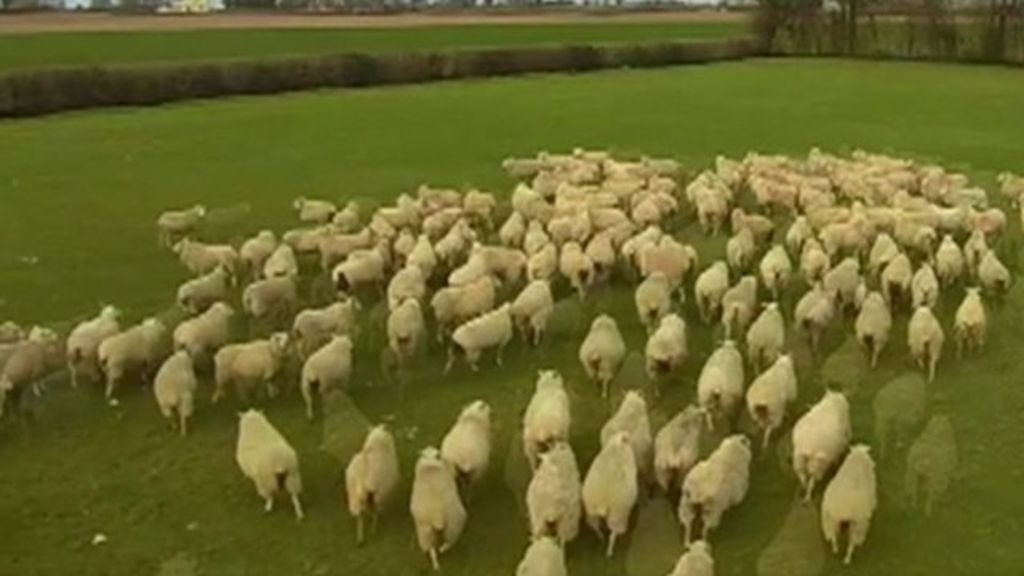sheep: (215, 413, 314, 534), (577, 428, 661, 561), (393, 448, 470, 565), (524, 440, 601, 553), (810, 437, 881, 551), (345, 433, 414, 545), (201, 337, 305, 410), (165, 307, 265, 375), (685, 434, 747, 537), (558, 317, 633, 400), (290, 343, 370, 420), (517, 371, 584, 460), (800, 388, 853, 498), (368, 295, 460, 358), (294, 297, 380, 363), (238, 273, 314, 344), (441, 400, 495, 494), (68, 305, 131, 381), (447, 301, 518, 368), (1, 327, 67, 398), (845, 284, 898, 368), (648, 320, 701, 401), (175, 240, 251, 295), (907, 297, 954, 383), (761, 343, 801, 444), (145, 348, 201, 420), (688, 157, 753, 218), (947, 285, 997, 364), (93, 318, 155, 378), (165, 268, 241, 315), (498, 283, 565, 333), (975, 241, 1021, 311), (730, 283, 788, 337), (715, 207, 768, 264), (160, 193, 220, 241), (770, 155, 823, 207), (424, 218, 485, 263), (331, 240, 388, 288), (751, 304, 793, 363), (860, 158, 901, 213), (625, 153, 695, 185), (511, 247, 557, 290), (271, 215, 324, 248), (577, 163, 610, 215), (274, 193, 328, 221), (533, 167, 567, 210), (868, 241, 904, 277), (374, 264, 405, 303), (940, 185, 968, 218)
